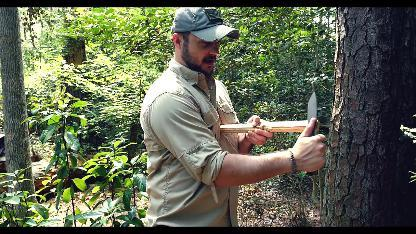knife: (298, 89, 328, 167)
